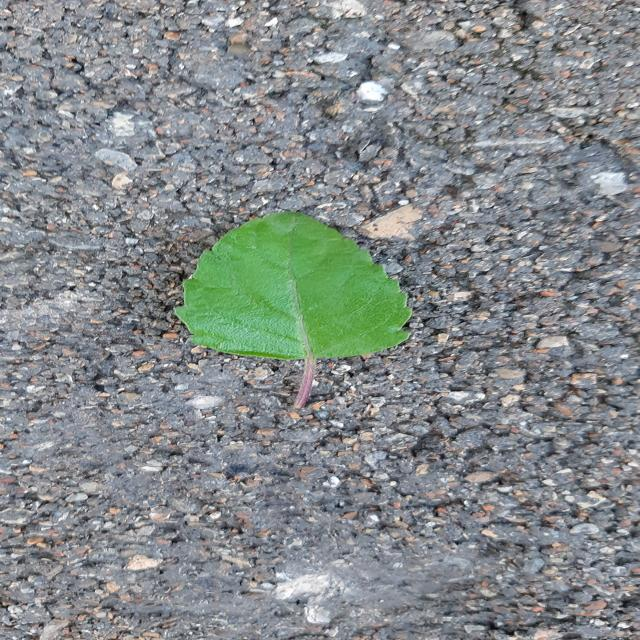tulsi: (176, 212, 412, 408)
